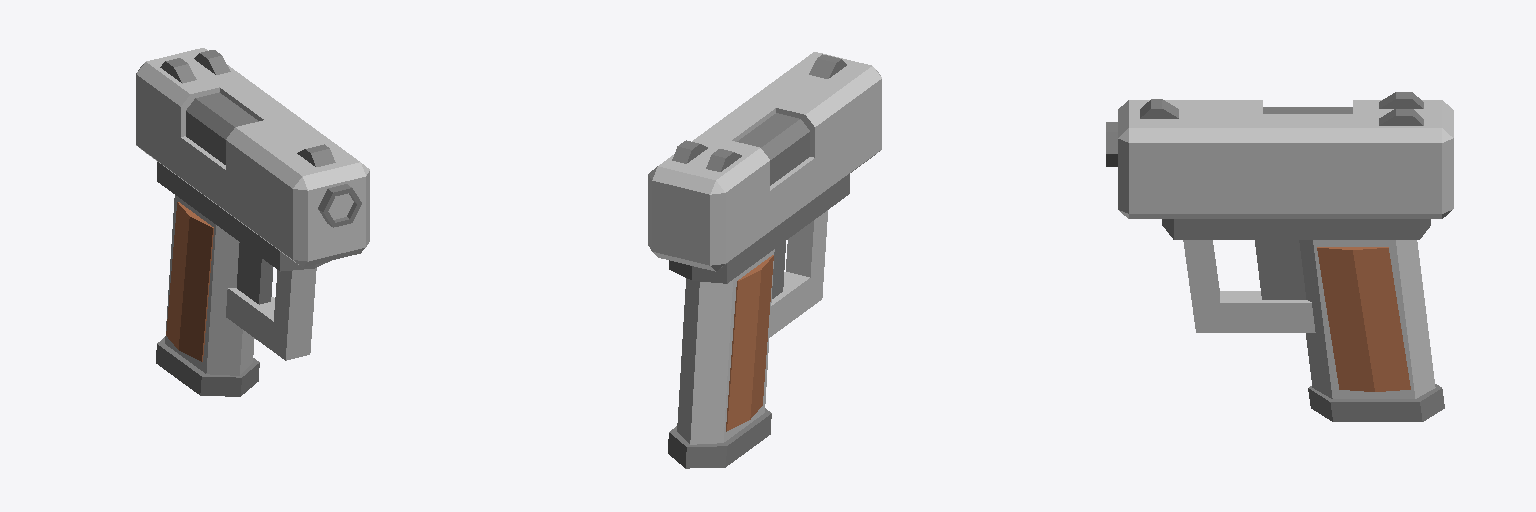
The picture shows the model from 3 angles: view 1: azimuth 30°, elevation 25°; view 2: azimuth 150°, elevation 25°; view 3: azimuth 270°, elevation 25°; orthographic projection.
Parts seen in each view (by area): view 1: Slider_BackupBoysPistol, Handle_BackupBoysPistol.020, Internals_BackupBoysPistol.010; view 2: Slider_BackupBoysPistol, Handle_BackupBoysPistol.020, Internals_BackupBoysPistol.010; view 3: Slider_BackupBoysPistol, Handle_BackupBoysPistol.020, Internals_BackupBoysPistol.010.
Part boxes in pixels (left/top/right/bottom): Slider_BackupBoysPistol: left=136, top=48, right=369, bottom=267; Handle_BackupBoysPistol.020: left=156, top=162, right=329, bottom=396; Internals_BackupBoysPistol.010: left=186, top=92, right=361, bottom=227; Slider_BackupBoysPistol: left=648, top=52, right=881, bottom=271; Handle_BackupBoysPistol.020: left=668, top=174, right=849, bottom=468; Internals_BackupBoysPistol.010: left=737, top=113, right=809, bottom=185; Slider_BackupBoysPistol: left=1118, top=92, right=1453, bottom=218; Handle_BackupBoysPistol.020: left=1162, top=219, right=1444, bottom=421; Internals_BackupBoysPistol.010: left=1106, top=107, right=1352, bottom=166.
Bounding box in the file's own units: 2 × 7.5 × 7.75.
4 materials, 2 textured.